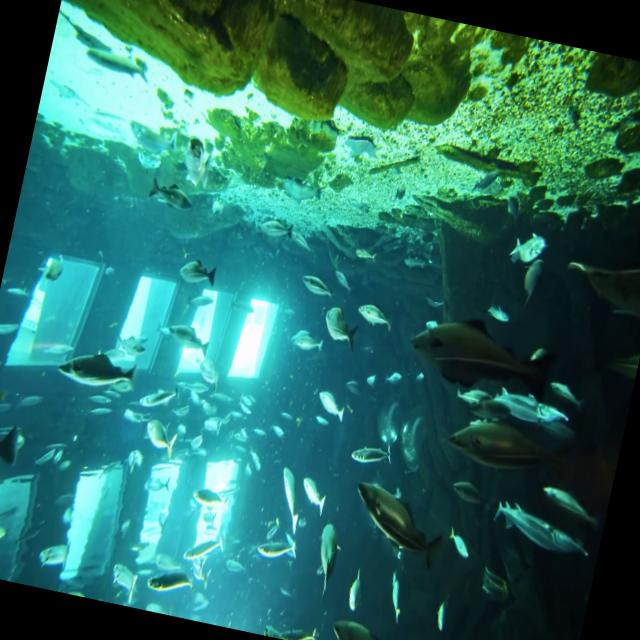fish: (406, 312, 566, 408), (444, 402, 572, 490), (343, 481, 452, 575), (487, 497, 596, 563), (56, 338, 141, 394), (264, 459, 316, 536), (318, 302, 365, 358), (308, 522, 344, 594), (142, 564, 196, 600), (176, 254, 220, 296)
